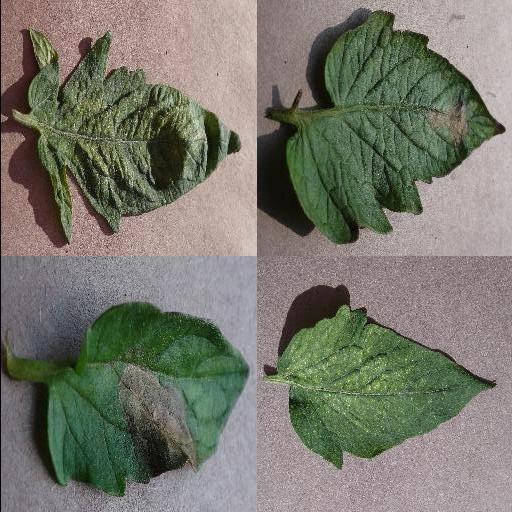Late Blight: (285, 10, 509, 244), (45, 301, 249, 497)
Spider Mites: (25, 30, 241, 246), (277, 305, 497, 469)
